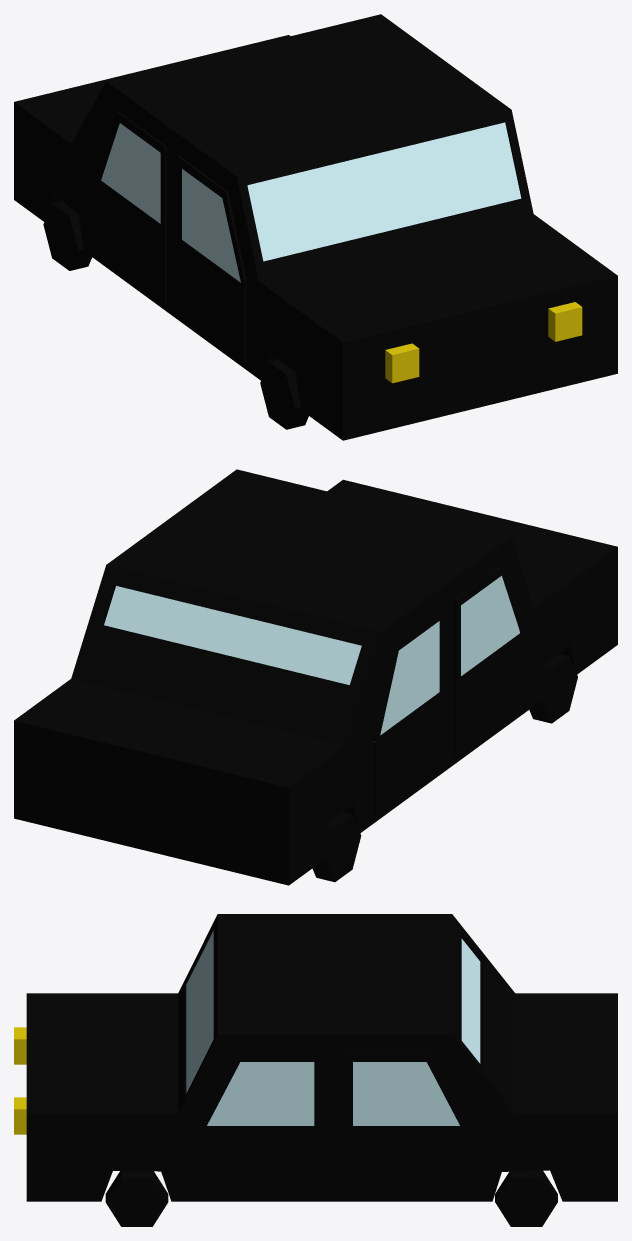
File: Coche  Negro.fbx
The picture shows the model from 3 angles, top to bottom: view 1: azimuth 30°, elevation 25°; view 2: azimuth 150°, elevation 25°; view 3: azimuth 270°, elevation 25°; orthographic projection. The views are drawn at different scales.
Parts seen in each view (by area): view 1: Cube, Cube.010, Cube.004, Cube.005, Cube.009, Cube.008, Cube.002, Cylinder.002, Cylinder.003; view 2: Cube, Cube.011, Cube.005, Cube.004, Cube.009, Cube.008, Cylinder.003, Cylinder.002; view 3: Cube, Cube.001, Cube.003, Cube.006, Cube.007, Cube.010, Cylinder, Cylinder.001, Cube.011, Cube.002.
Part boxes in pixels (x1,y1,x2,y2): Cube: (14, 14, 617, 440); Cube.010: (247, 122, 521, 261); Cube.004: (176, 155, 246, 363); Cube.005: (97, 111, 166, 304); Cube.009: (101, 123, 160, 223); Cube.008: (182, 169, 240, 282); Cube.002: (385, 302, 582, 383); Cylinder.002: (260, 359, 308, 429); Cylinder.003: (43, 201, 92, 270); Cube: (14, 469, 617, 885); Cube.011: (104, 586, 361, 684); Cube.005: (374, 608, 443, 815); Cube.004: (454, 563, 523, 757); Cube.009: (374, 621, 439, 741); Cube.008: (461, 575, 519, 675); Cylinder.003: (312, 812, 361, 882); Cylinder.002: (529, 653, 577, 723); Cube: (26, 914, 617, 1201); Cube.001: (345, 1053, 465, 1196); Cube.003: (200, 1053, 321, 1195); Cube.006: (207, 1062, 314, 1125); Cube.007: (353, 1062, 459, 1125); Cube.010: (186, 931, 213, 1093); Cylinder: (105, 1171, 168, 1226); Cylinder.001: (495, 1170, 557, 1226); Cube.011: (461, 938, 480, 1063); Cube.002: (14, 1027, 26, 1134).
Size of the model in its own units: 173 by 125 by 358.
